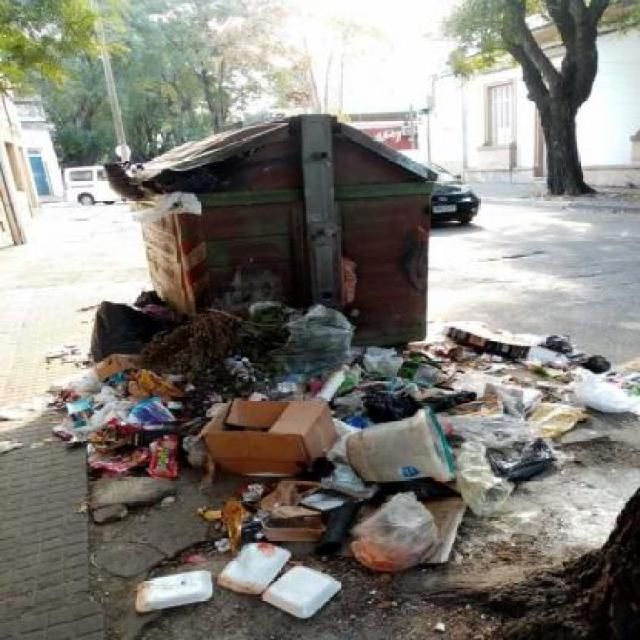garbage: (83, 306, 552, 622), (540, 311, 639, 456), (53, 336, 150, 467), (97, 148, 230, 236)
